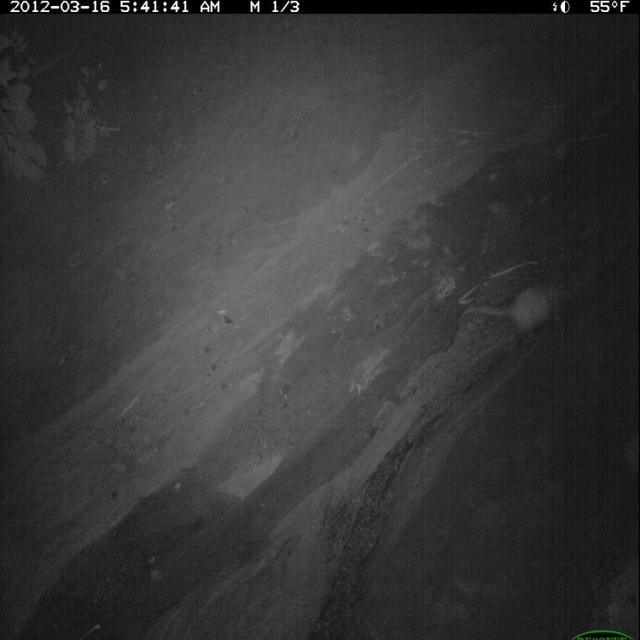opossum: (456, 269, 580, 351)
